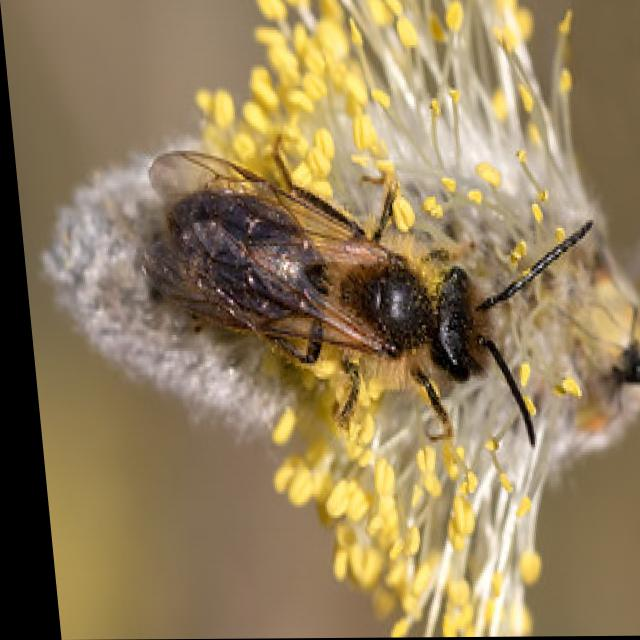Abeille: (95, 115, 639, 478)
